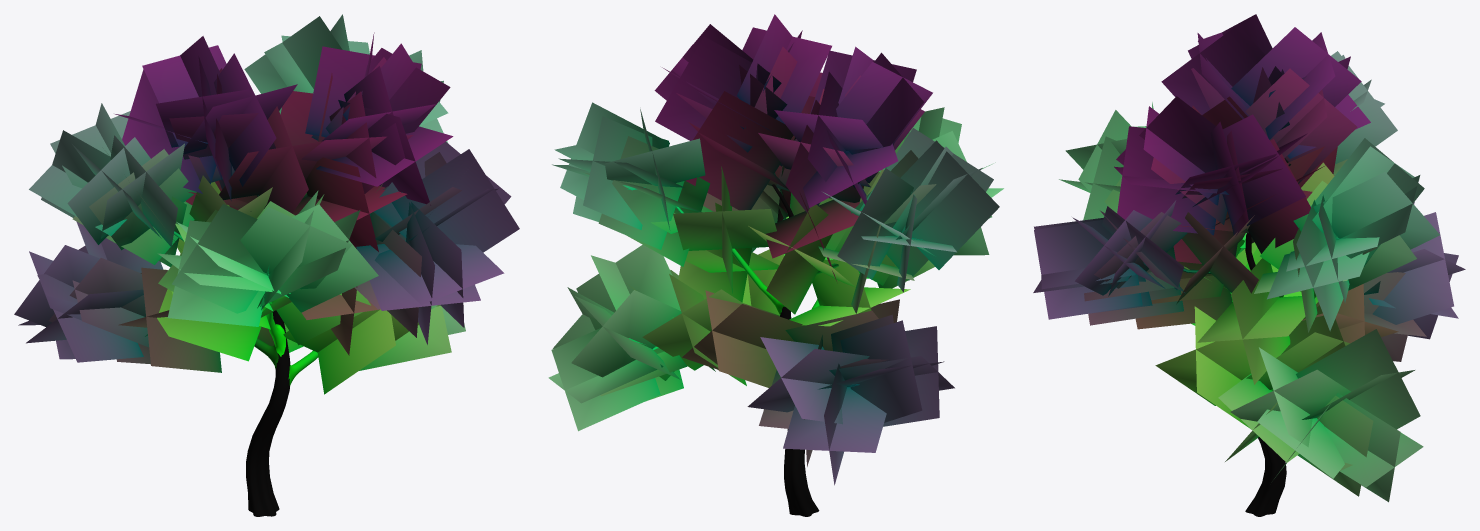
Rendered from M_P3_Tree_3.fbx.
3 views of the same model, side by side, from view 1: azimuth 30°, elevation 25°; view 2: azimuth 150°, elevation 25°; view 3: azimuth 270°, elevation 25° (orthographic). The views are drawn at different scales.
Parts seen in each view (by area): view 1: Tree_3; view 2: Tree_3; view 3: Tree_3.
Boxes of the visible parts, <box> form: Tree_3: <box>14,14,519,516</box>; Tree_3: <box>548,14,1003,516</box>; Tree_3: <box>1033,14,1465,516</box>.
Size of the model in its own units: 528 by 574 by 483.
